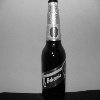beer: (38, 1, 69, 100)
